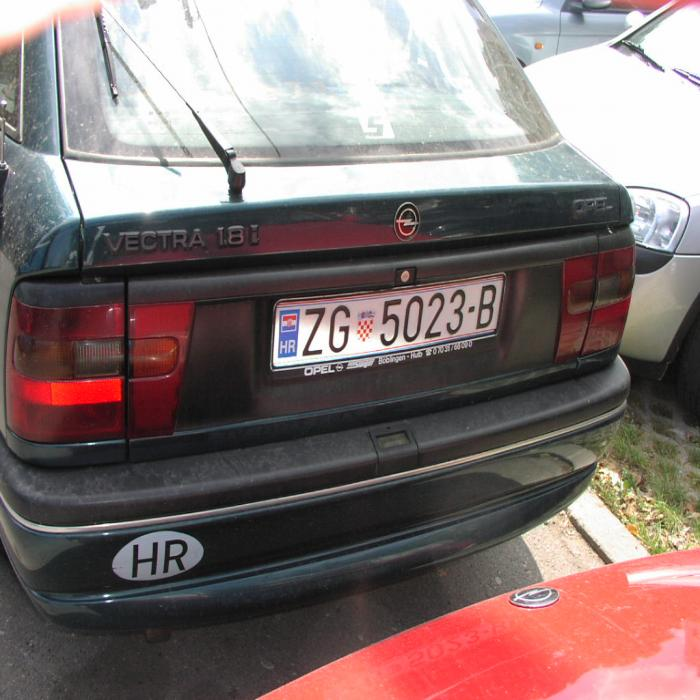number_plate: (275, 282, 500, 363)
